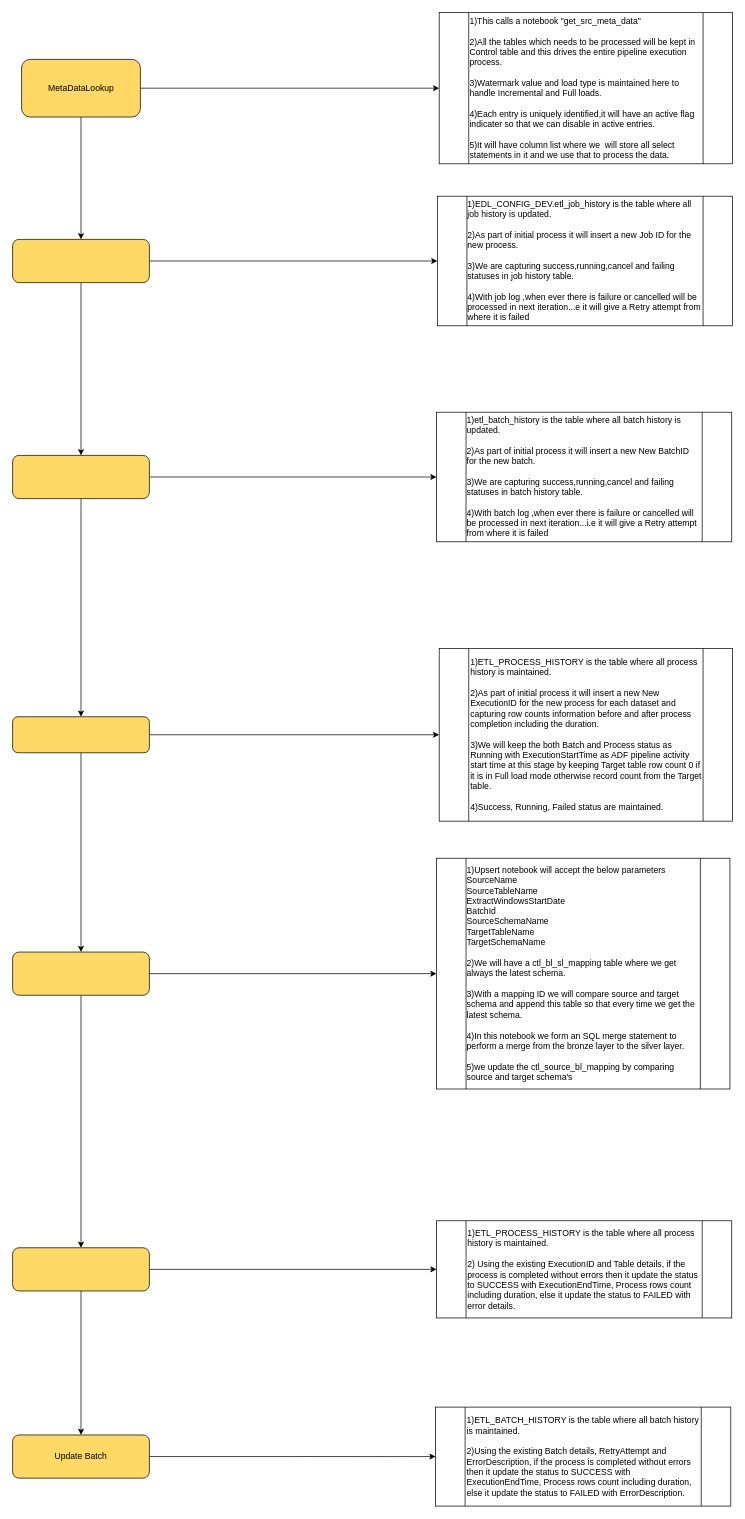
Image size: 745x1519. Some labels were removed from this diagram. The box of each missing label's shape, as (x1, y1, x2, y2) in pixels:
Create Batch: (12, 455, 149, 499)
Create Job: (12, 239, 149, 283)
Create Process: (12, 716, 149, 753)
Update Process: (12, 1247, 149, 1291)
upsert into silver layer: (12, 951, 149, 995)
